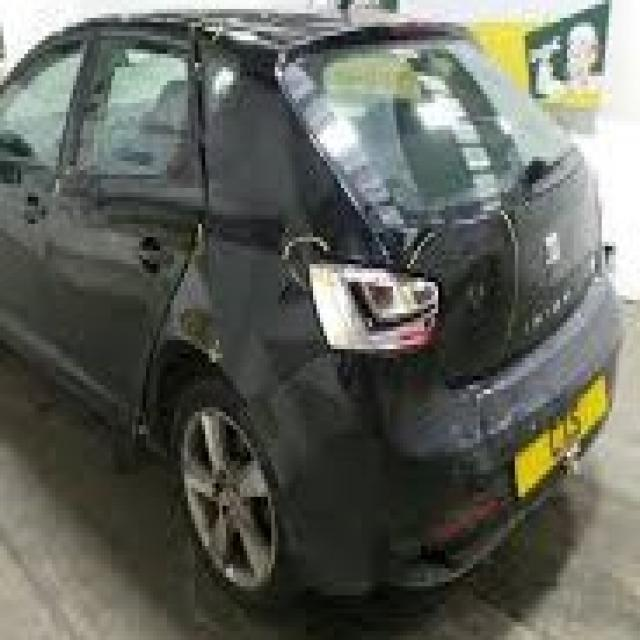minor: (82, 4, 256, 448), (463, 228, 501, 348)
